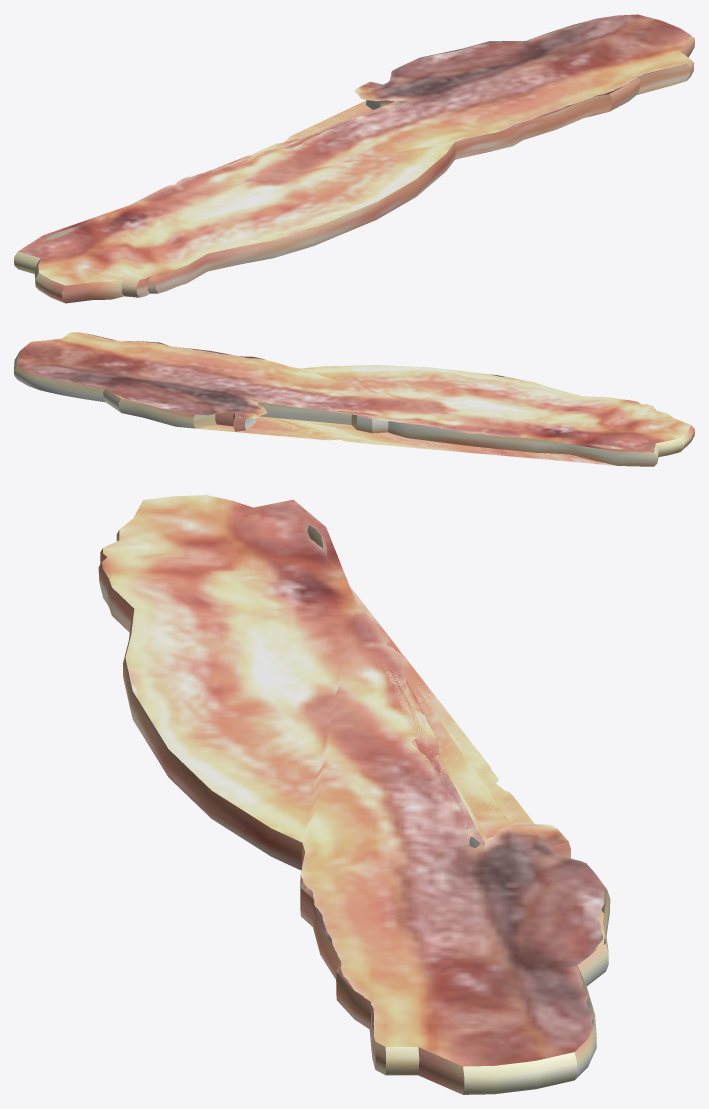
The model's file is bacon.fbx.
3 renders of one model, top to bottom at view 1: azimuth 30°, elevation 25°; view 2: azimuth 150°, elevation 25°; view 3: azimuth 270°, elevation 25°, orthographic. The views are drawn at different scales.
Visible parts, largest first — view 1: Cube.001; view 2: Cube.001; view 3: Cube.001.
Part boxes in pixels (x1,y1,x2,y2): Cube.001: (14, 14, 694, 303); Cube.001: (14, 332, 694, 466); Cube.001: (98, 495, 610, 1094).
Bounding box in the file's own units: 33.22 × 0.7618 × 12.42.
